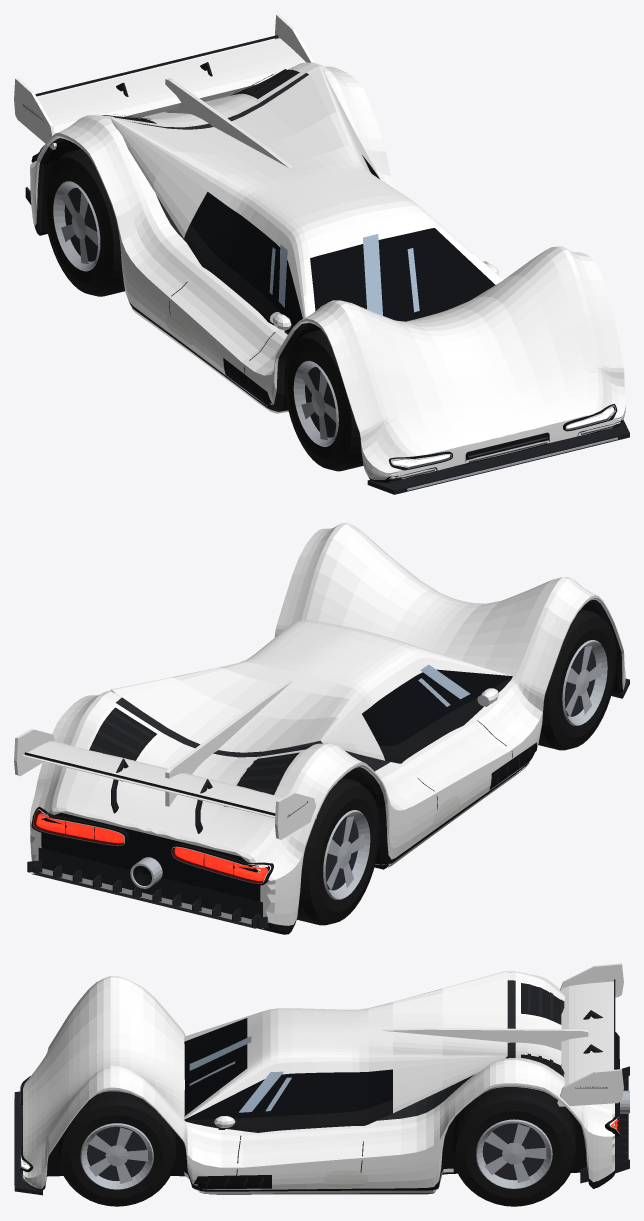
Rendered from prototype.glb.
3 views of the same model, one above another, from view 1: azimuth 30°, elevation 25°; view 2: azimuth 150°, elevation 25°; view 3: azimuth 270°, elevation 25° (orthographic). The views are drawn at different scales.
Parts seen in each view (by area): view 1: body, cabine, asa, wheel_rr, wheel_fr, divisor, reflexo_vidro, asa_placas, barbatana, entradas_frente, lamp_head, venezianas (+1 smaller); view 2: body, cabine, wheel_rr, painel_traseiro, wheel_fr, asa, lamp_tail, venezianas, asa_placas, difusor, barbatana, reflexo_vidro (+2 smaller); view 3: body, cabine, wheel_rl, wheel_fl, asa, asa_placas, barbatana, venezianas, reflexo_vidro, entrada_ar_l, difusor, divisor (+3 smaller).
Part boxes in pixels (x1,y1,x2,y2): body: (30, 62, 625, 482); cabine: (110, 66, 503, 332); asa: (35, 35, 305, 133); wheel_rr: (43, 148, 124, 296); wheel_fr: (284, 329, 363, 471); divisor: (367, 420, 629, 494); reflexo_vidro: (269, 234, 419, 315); asa_placas: (14, 14, 314, 149); barbatana: (165, 78, 292, 167); entradas_frente: (385, 420, 622, 482); lamp_head: (388, 404, 617, 470); venezianas: (102, 69, 299, 123); body: (30, 523, 625, 934); cabine: (110, 620, 512, 763); wheel_rr: (297, 777, 379, 925); painel_traseiro: (38, 812, 262, 919); wheel_fr: (538, 609, 616, 750); asa: (22, 741, 282, 818); lamp_tail: (31, 806, 273, 885); venezianas: (89, 707, 299, 806); asa_placas: (14, 729, 316, 839); difusor: (27, 860, 268, 928); barbatana: (165, 679, 292, 806); reflexo_vidro: (418, 664, 470, 706); body: (23, 971, 614, 1194); cabine: (184, 970, 507, 1132); wheel_rl: (452, 1087, 575, 1206); wheel_fl: (58, 1091, 176, 1206); asa: (561, 979, 615, 1091); asa_placas: (557, 963, 623, 1106); barbatana: (382, 1028, 588, 1050); venezianas: (521, 983, 564, 1076); reflexo_vidro: (189, 1036, 291, 1112); entrada_ar_l: (194, 1175, 271, 1188); difusor: (580, 1066, 629, 1183); divisor: (14, 1091, 42, 1195).
Size of the model in its own units: 1.95 by 1.17 by 4.58.
